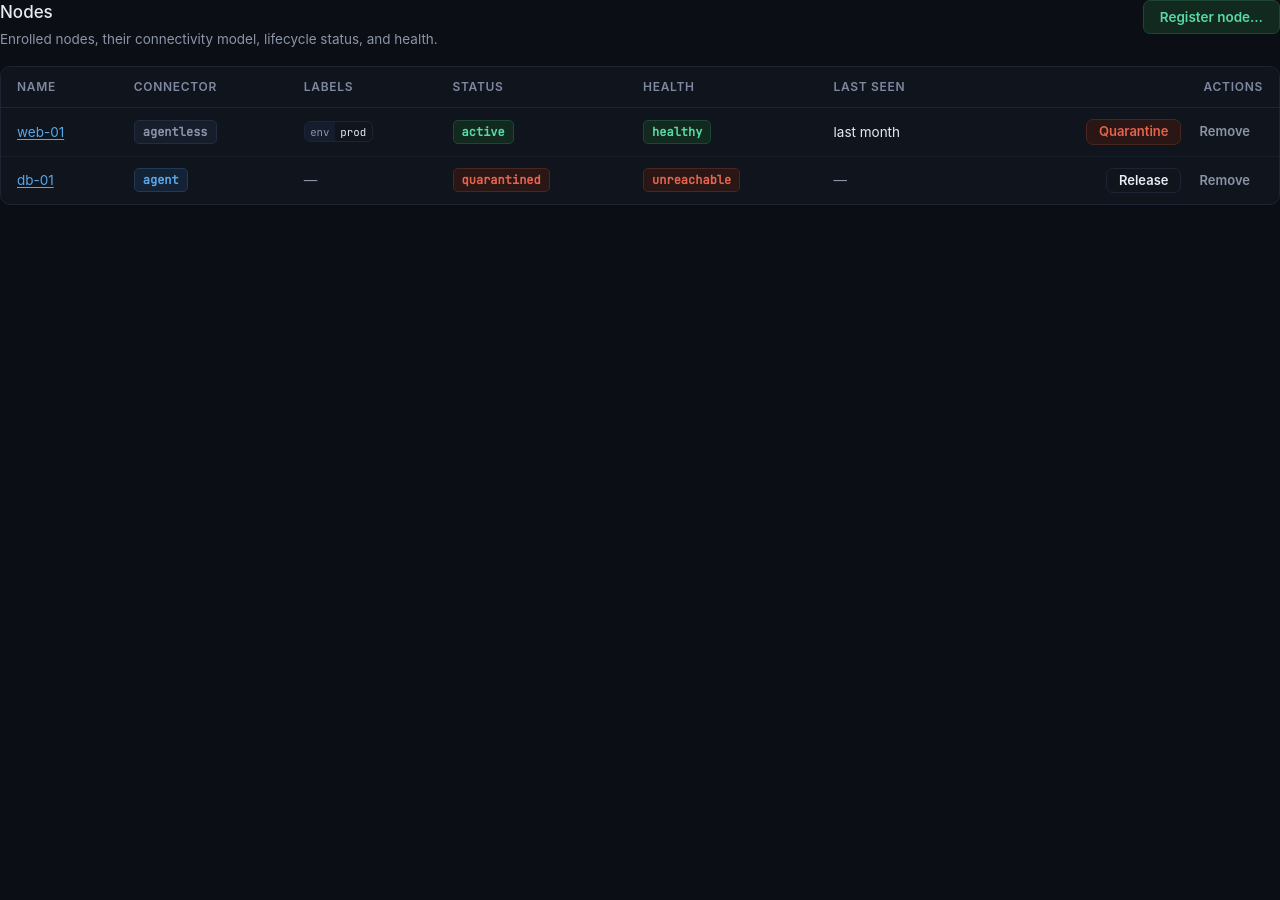
Test: NodeList › opens node detail via getNode
Step 1. Click the button "web-01" → (41, 132), box [17,122,64,142]
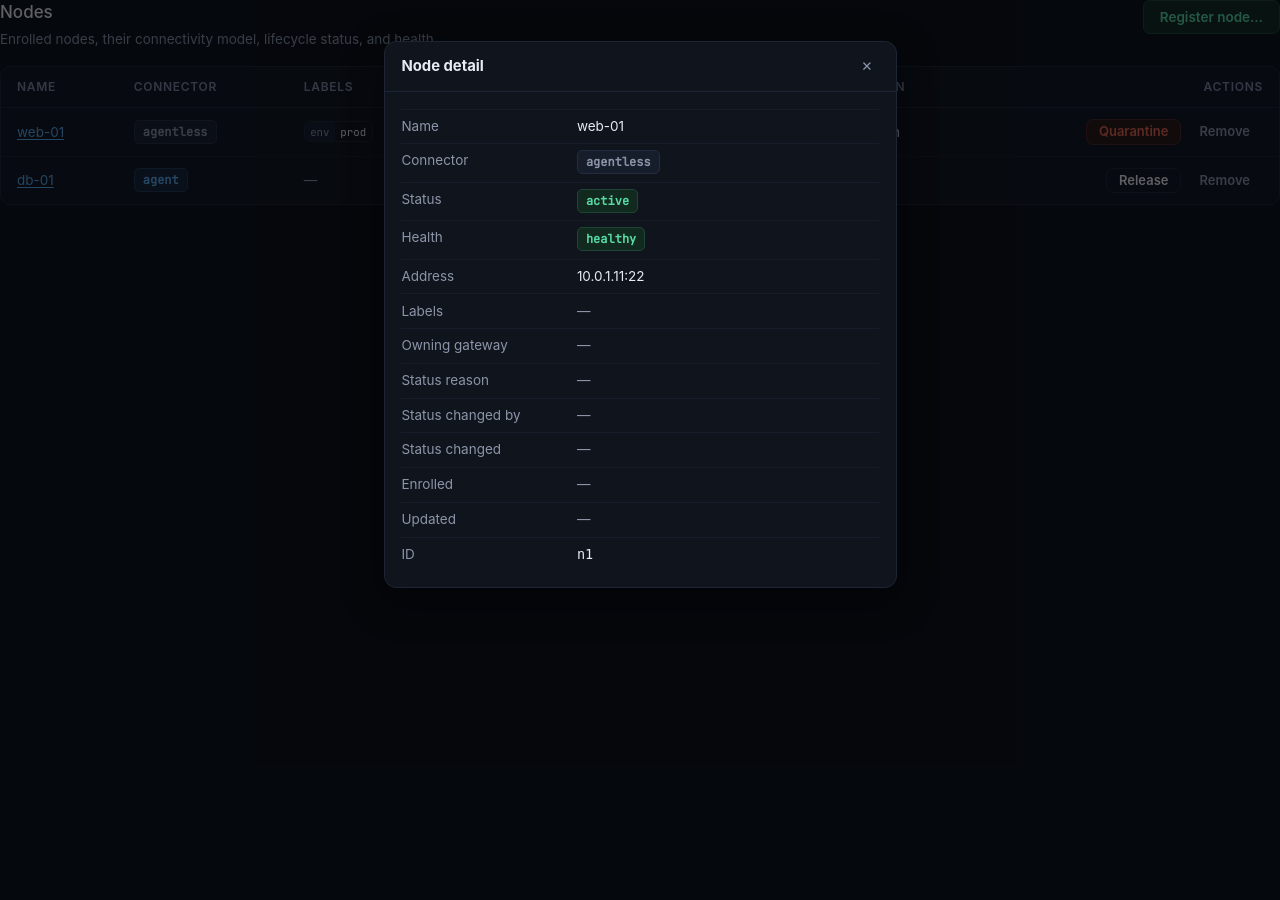
Result: the heading "Node detail" is shown at [401,55,484,77]
Result: the text "10.0.1.11:22" is shown at [577,268,645,284]
